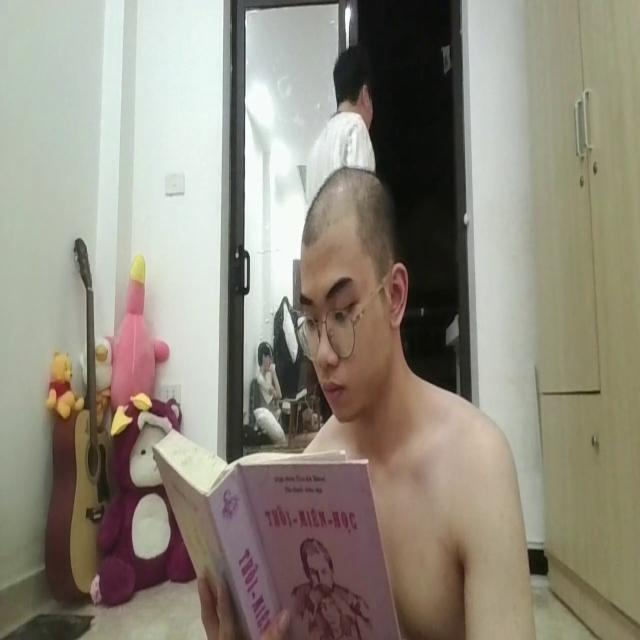book: (155, 419, 406, 640)
extra_person: (304, 44, 385, 207), (250, 330, 288, 421)
student: (291, 170, 530, 640)
